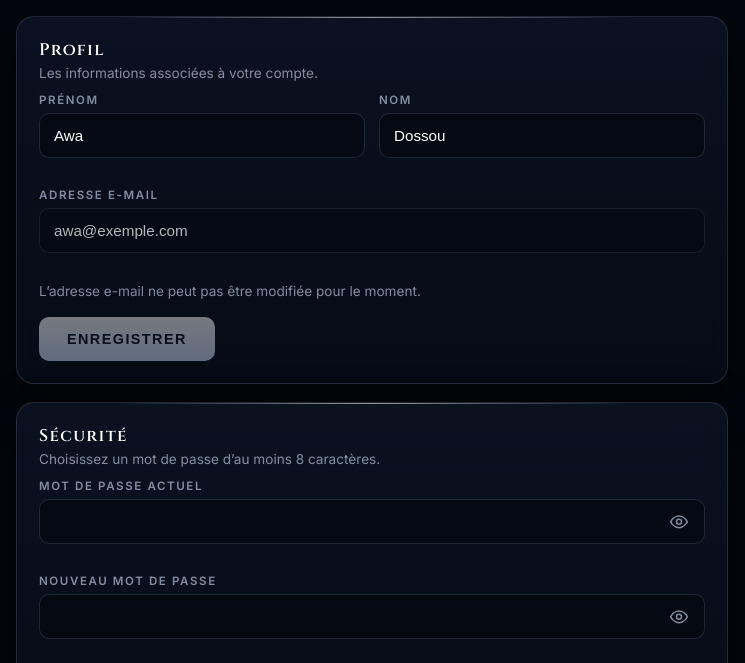
Test: Settings : profil › envoie les valeurs nettoyées puis confirme
Replace the text in the field labelled "Prénom" with "  Marc " at (202, 136), box [39,113,365,158]
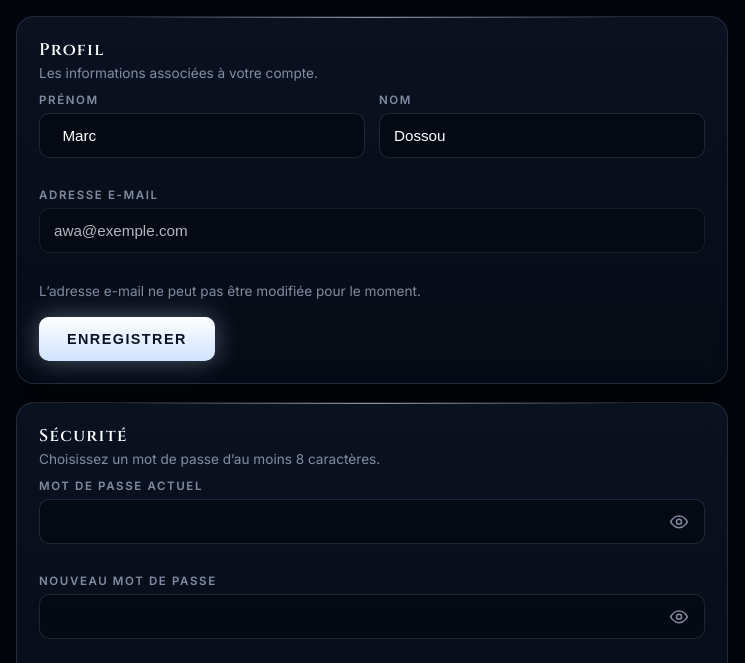
Click the button "Enregistrer" at (127, 339), box [39,317,215,361]
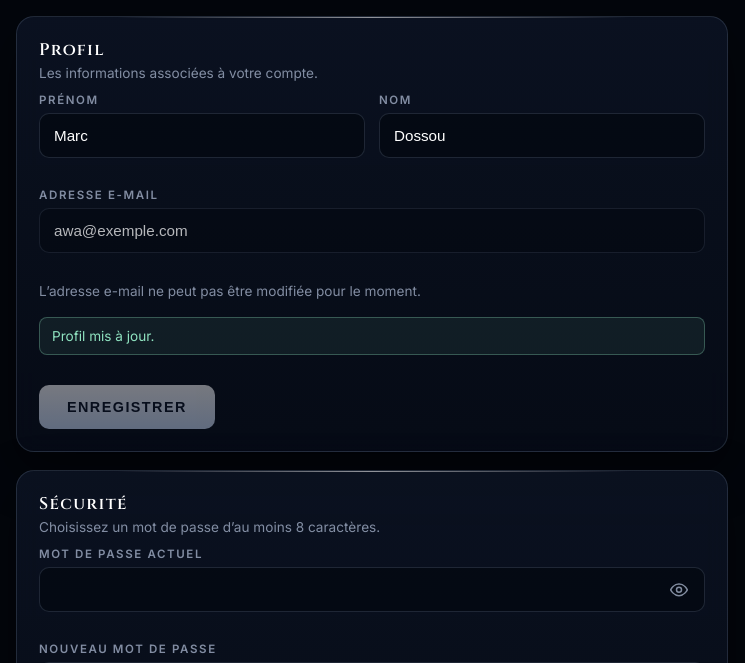
Result: the text "Profil mis à jour." is shown at [39,317,705,355]
Result: the button "Enregistrer" is disabled at [39,385,215,429]
